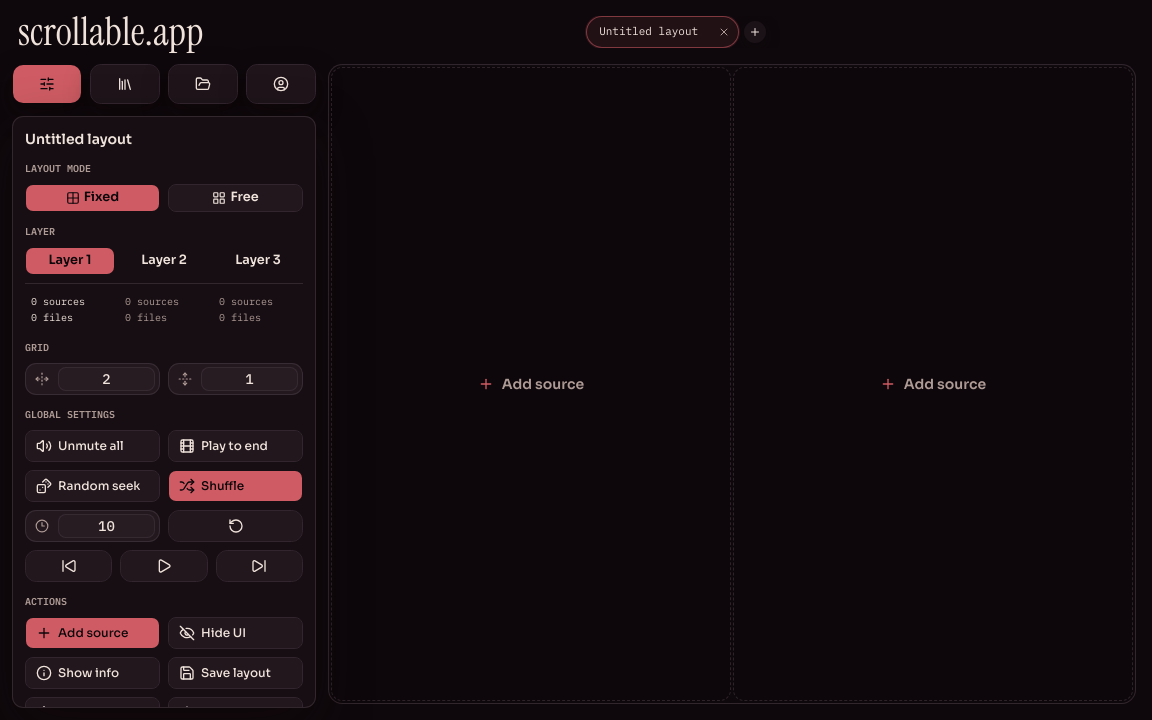
Scenario: FeedWorkbench account state › shows the active account and logs out
The width and height of the screenshot is (1152, 720).
Click the button named "Sign in" at (281, 84), box [246,64,316,104]
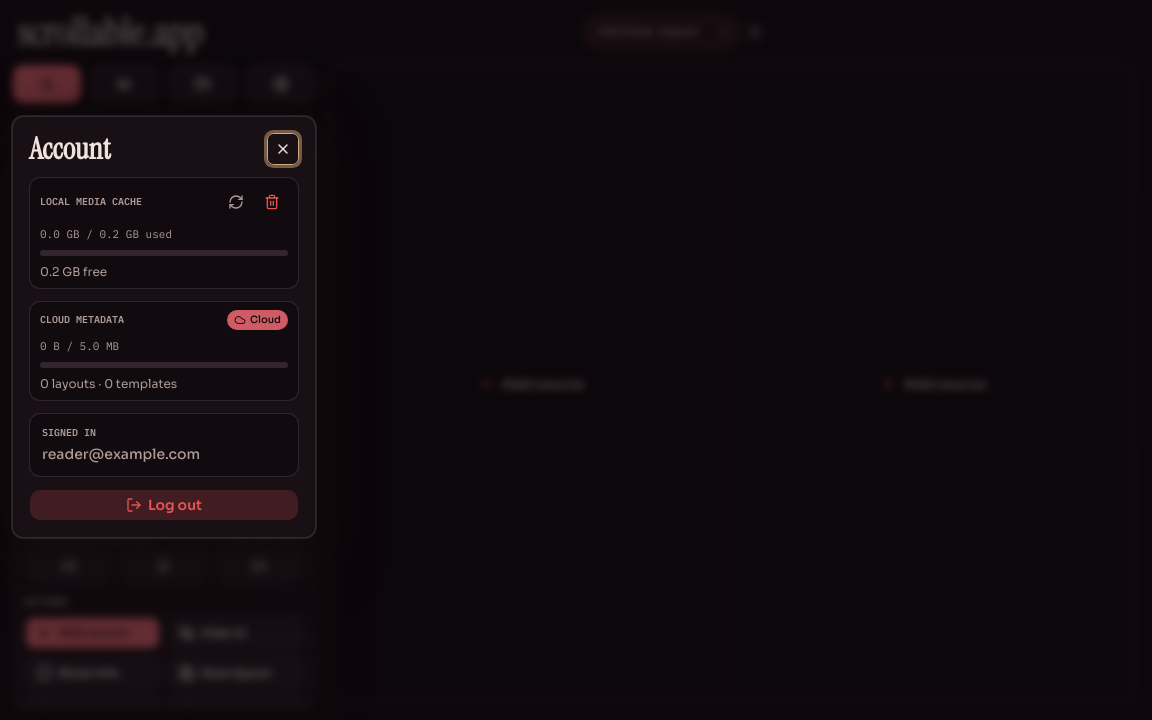
Check: the text "reader@example.com" is shown, box [42,445,200,463]
Click the button "Log out" at (164, 505), box [29,489,299,521]
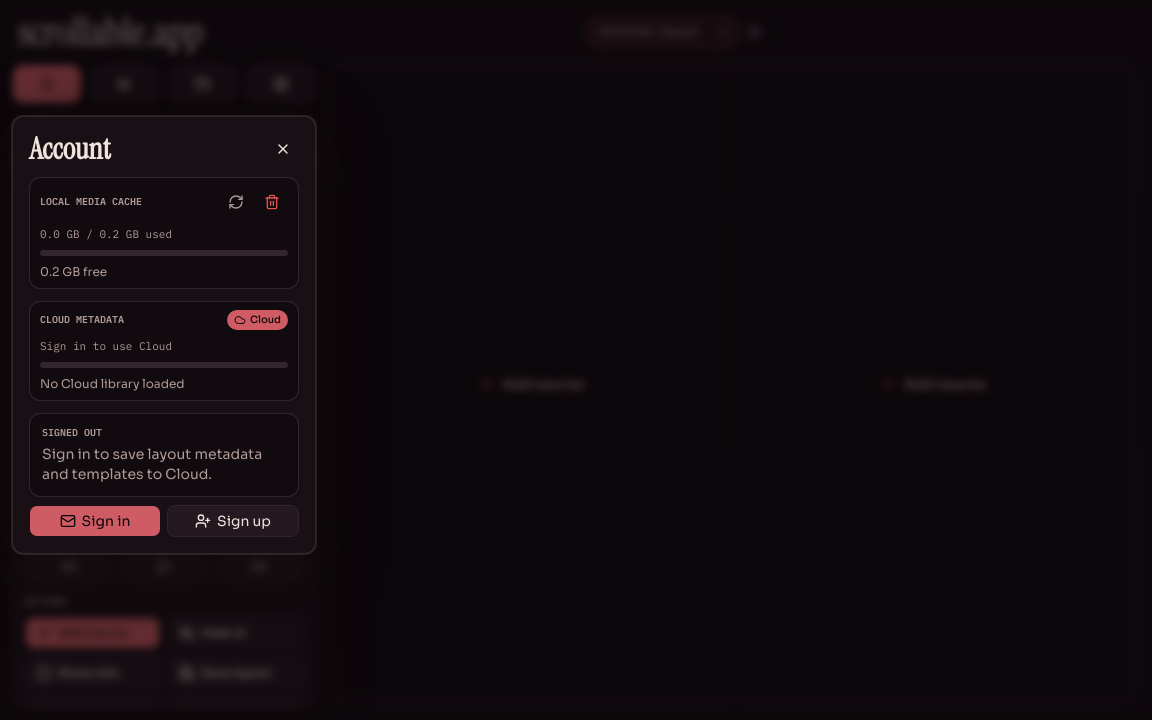
Check: the button "Sign in" is shown, box [29,505,161,537]
